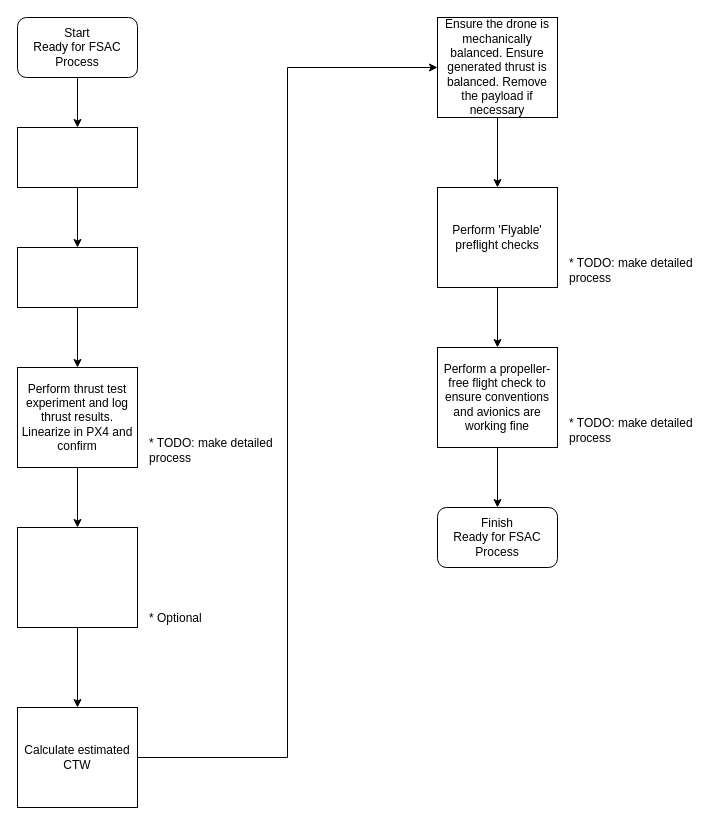
Some shapes in this 715 by 825 pixel diagram are drawn without their labels. Each missing label, with the box of its shape:
Install "Ready to Integrate" FC on the drone: (16, 126, 138, 188)
Perform battery discharge curve: (16, 526, 138, 628)
Update the FC UAV type and instance: (16, 246, 138, 308)
